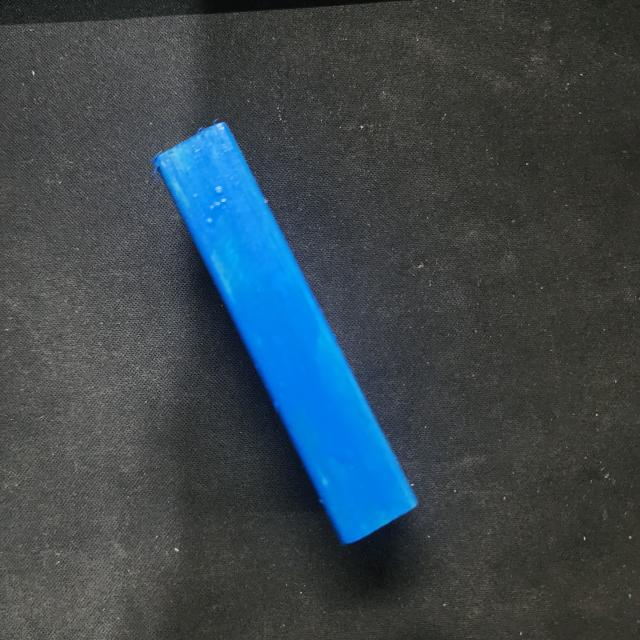blue: (148, 122, 420, 548)
